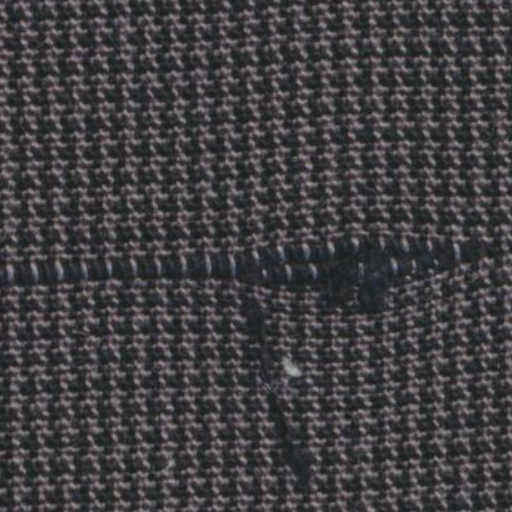DaiSha: (12, 222, 490, 306)
